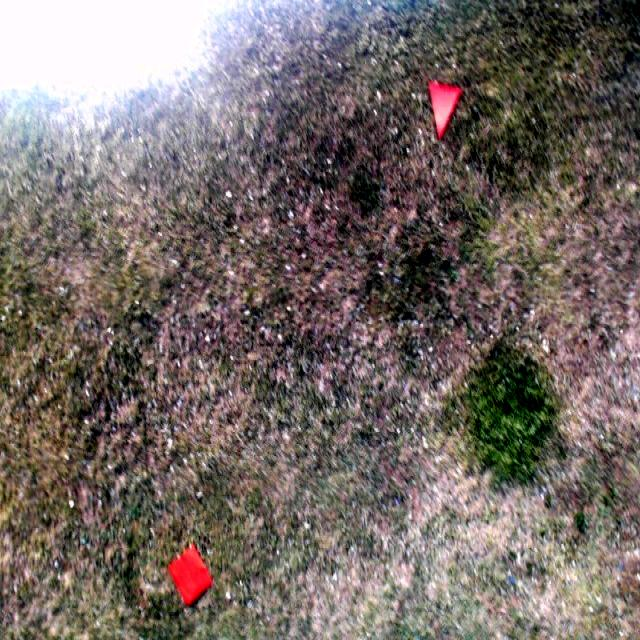red_square: (168, 543, 214, 610)
red_triangle: (424, 84, 462, 144)
